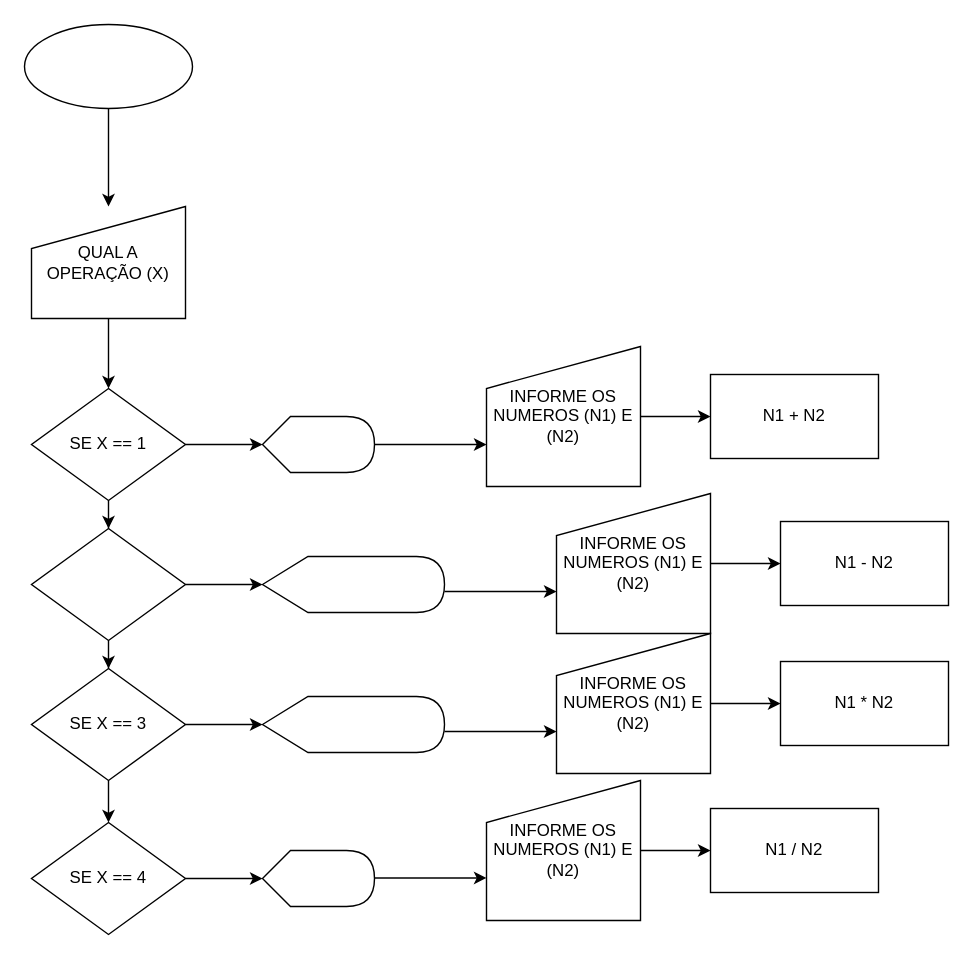
Some shapes in this 973 by 959 pixel diagram are drawn without their labels. The centre of each missing label's shape, as x and y in pixels:
"DIVISÃO" goes at (317,877).
"INICIO" goes at (107,65).
"MULTIPLICAÇÃO" goes at (352,723).
"SE X == 2" goes at (108,583).
"SOMA" goes at (317,443).
"SUBTRAÇÃO" goes at (352,583).
